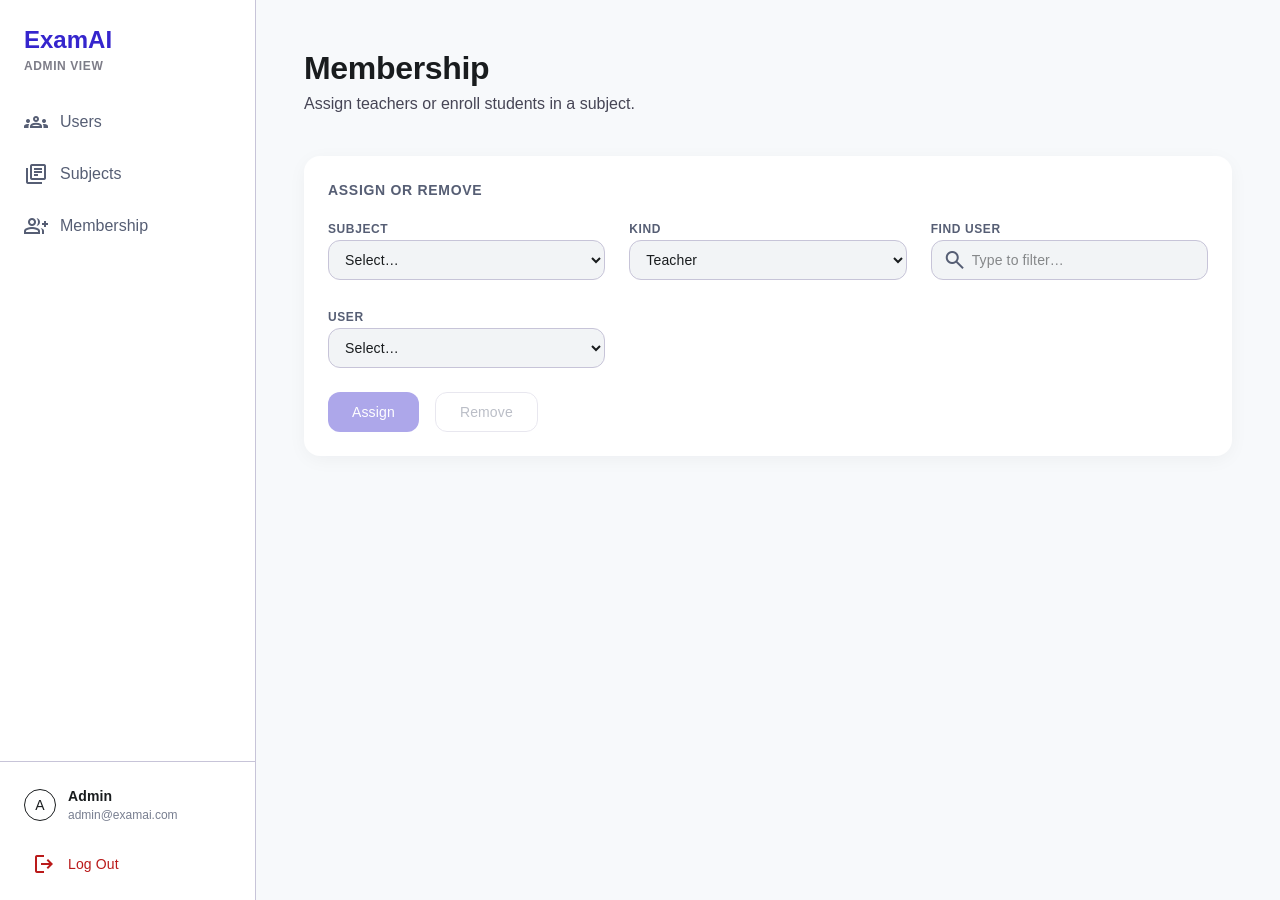
Test case: AdminMembership › assigns a teacher to a subject
This screenshot has width=1280, height=900.
Select "Software Engineering" in the dropdown labelled "Subject" at (467, 260), box [328,240,605,280]
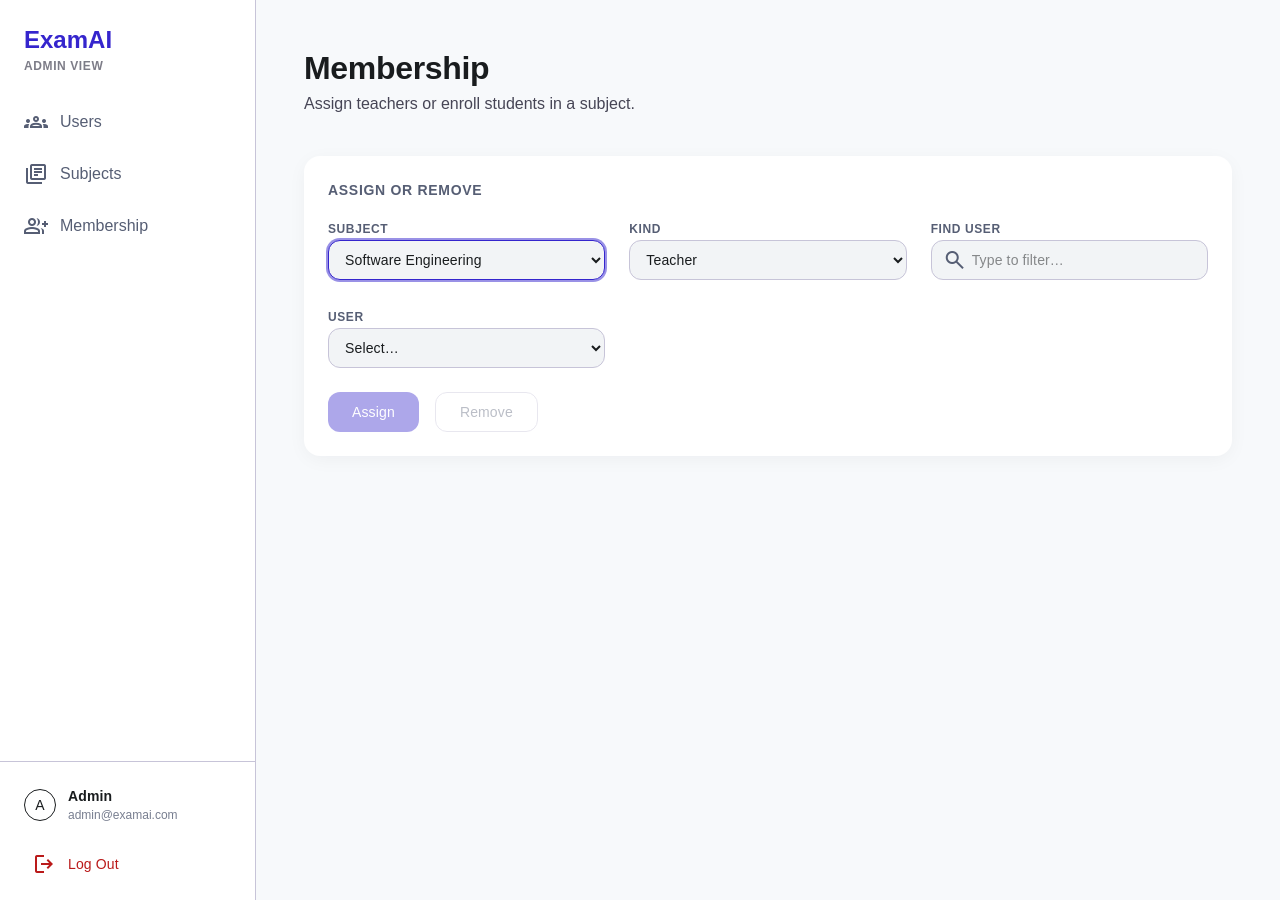
Select "Dr. Alice Smith (teacher1@examai.com)" in the dropdown labelled "User" at (467, 348), box [328,328,605,368]
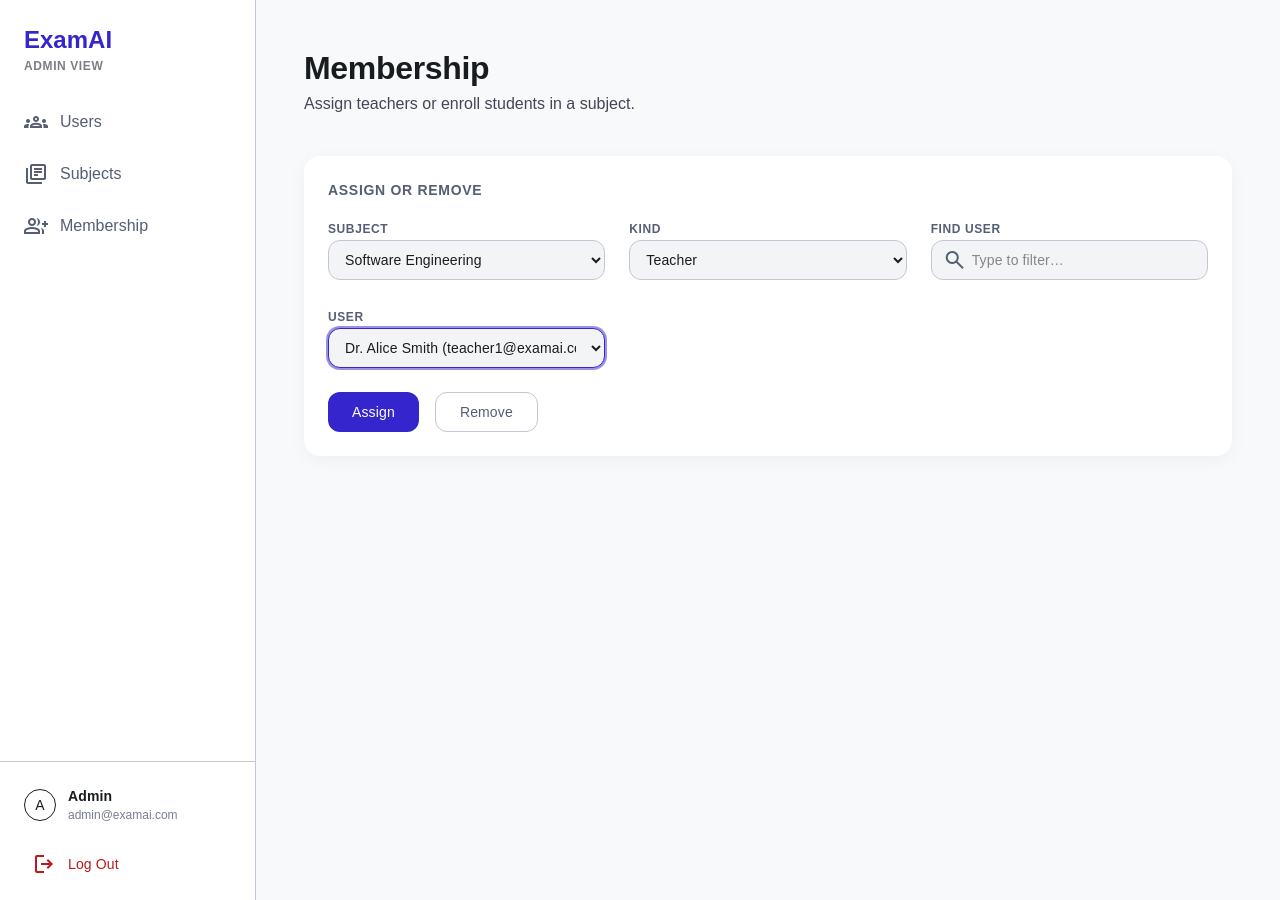
Click the button "Assign" at (373, 412), box [328,392,419,432]
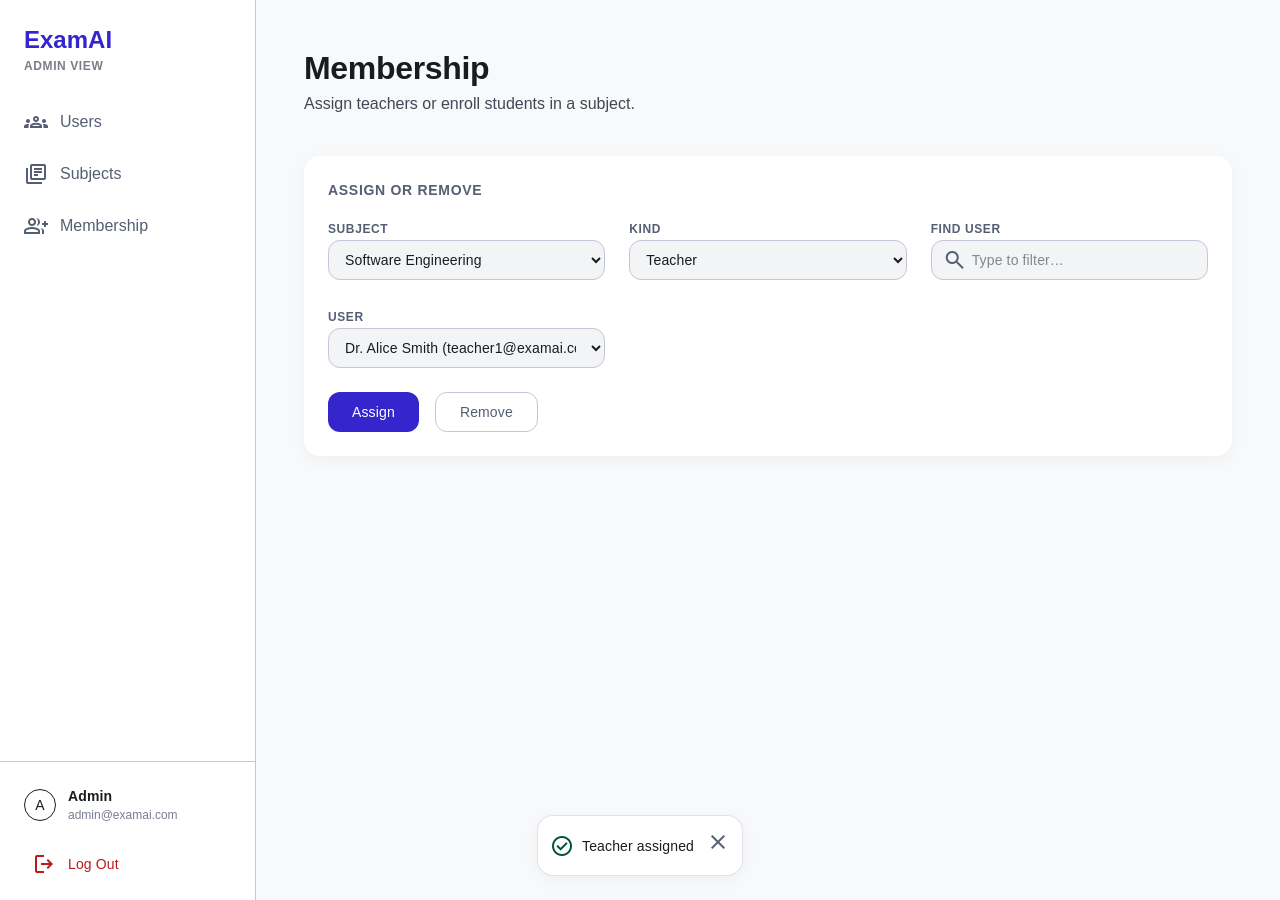
Result: the text "Teacher assigned" is shown at [582,836,694,856]
